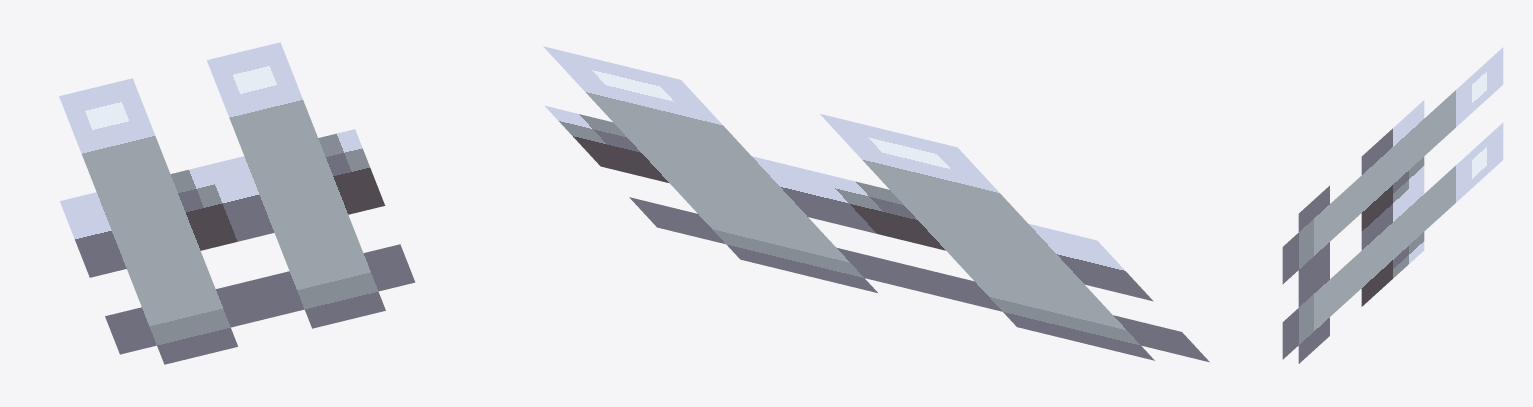
3 views of the same model, side by side, from view 1: azimuth 30°, elevation 25°; view 2: azimuth 150°, elevation 25°; view 3: azimuth 270°, elevation 25° (orthographic). The views are drawn at different scales.
Size of the model in its own units: 1 by 0.707 by 0.707.
Materials: 1 (1 with a texture image).
